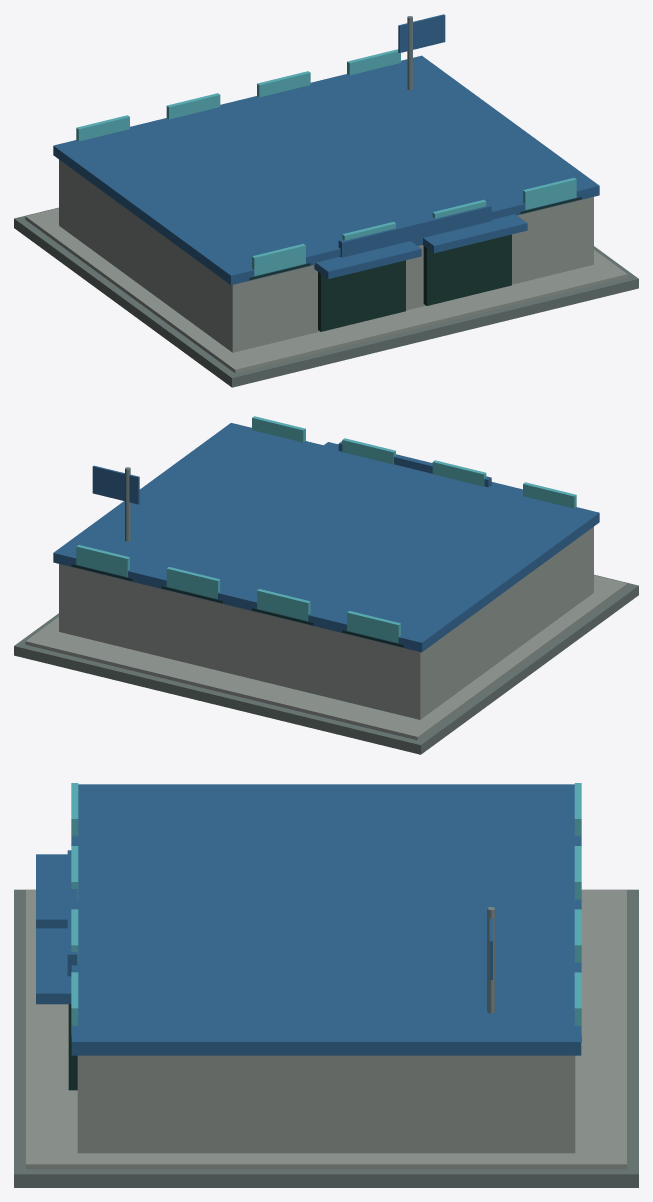
File: police_lv1.glb
The picture shows the model from 3 angles, top to bottom: view 1: azimuth 30°, elevation 25°; view 2: azimuth 150°, elevation 25°; view 3: azimuth 270°, elevation 25°; orthographic projection. The views are drawn at different scales.
Visible parts, largest first — view 1: rough, glossy; view 2: rough, glossy; view 3: rough, glossy, metallic.
Part boxes in pixels (bbox=[...]): rough: bbox=[14, 14, 638, 387]; glossy: bbox=[76, 49, 576, 276]; rough: bbox=[14, 423, 638, 754]; glossy: bbox=[76, 416, 576, 643]; rough: bbox=[14, 784, 638, 1187]; glossy: bbox=[71, 783, 581, 1034]; metallic: bbox=[487, 906, 495, 1013].
Bounding box in the file's own units: 9.8 × 3.79 × 9.1.
